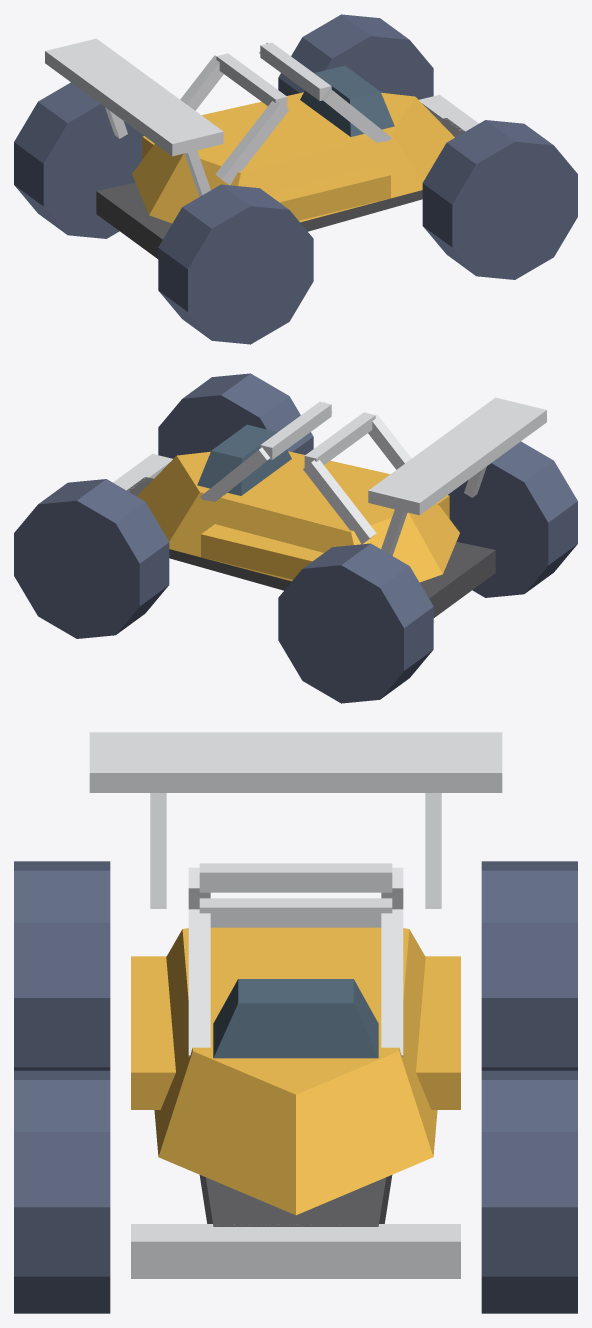
File: car_buggy.glb
3 renders of one model, top to bottom at view 1: azimuth 30°, elevation 25°; view 2: azimuth 150°, elevation 25°; view 3: azimuth 270°, elevation 25°, orthographic. The views are drawn at different scales.
Size of the model in its own units: 0.2656 by 0.128 by 0.205.
